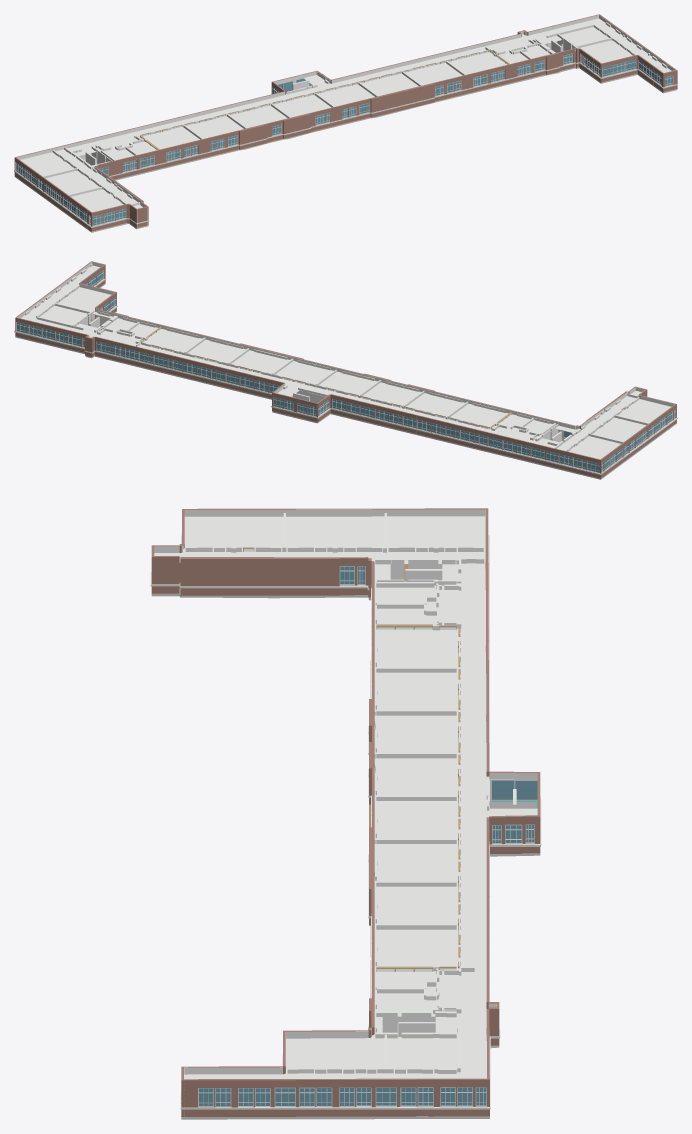
The model's file is main_4F.glb.
The picture shows the model from 3 angles, top to bottom: view 1: azimuth 30°, elevation 25°; view 2: azimuth 150°, elevation 25°; view 3: azimuth 270°, elevation 25°; orthographic projection. The views are drawn at different scales.
Visible parts, largest first — view 1: main_4F__ceil, main_4F__brick, main_4F__wallIn, main_4F__glass, main_4F__frameW, main_4F__white, main_4F__corrFloor, main_4F__woodFrame, main_4F__glassIn, main_4F__rail; view 2: main_4F__ceil, main_4F__brick, main_4F__wallIn, main_4F__glass, main_4F__frameW, main_4F__white, main_4F__corrFloor, main_4F__rail, main_4F__woodFrame, main_4F__glassIn; view 3: main_4F__ceil, main_4F__brick, main_4F__wallIn, main_4F__glass, main_4F__white, main_4F__frameW, main_4F__corrFloor, main_4F__woodFrame.
Part boxes in pixels (box(x1,y1,x2,y2)): main_4F__ceil: box(20, 18, 671, 212); main_4F__brick: box(14, 14, 677, 231); main_4F__wallIn: box(15, 15, 675, 227); main_4F__glass: box(16, 53, 672, 225); main_4F__frameW: box(15, 53, 673, 226); main_4F__white: box(14, 62, 677, 227); main_4F__corrFloor: box(14, 49, 677, 232); main_4F__woodFrame: box(110, 50, 509, 194); main_4F__glassIn: box(111, 51, 507, 195); main_4F__rail: box(15, 60, 672, 223); main_4F__ceil: box(21, 265, 671, 459); main_4F__brick: box(15, 261, 676, 478); main_4F__wallIn: box(16, 262, 676, 451); main_4F__glass: box(17, 270, 675, 472); main_4F__frameW: box(16, 270, 675, 473); main_4F__white: box(14, 278, 677, 474); main_4F__corrFloor: box(15, 283, 676, 479); main_4F__rail: box(17, 277, 675, 471); main_4F__woodFrame: box(141, 327, 624, 428); main_4F__glassIn: box(142, 328, 624, 428); main_4F__ceil: box(154, 516, 537, 1078); main_4F__brick: box(151, 508, 540, 1116); main_4F__wallIn: box(154, 509, 537, 1116); main_4F__glass: box(199, 566, 537, 1106); main_4F__white: box(150, 535, 541, 1109); main_4F__frameW: box(198, 566, 534, 1106); main_4F__corrFloor: box(151, 581, 540, 1119); main_4F__woodFrame: box(243, 547, 460, 971).
Bounding box in the file's own units: 121 × 3.85 × 34.75.
